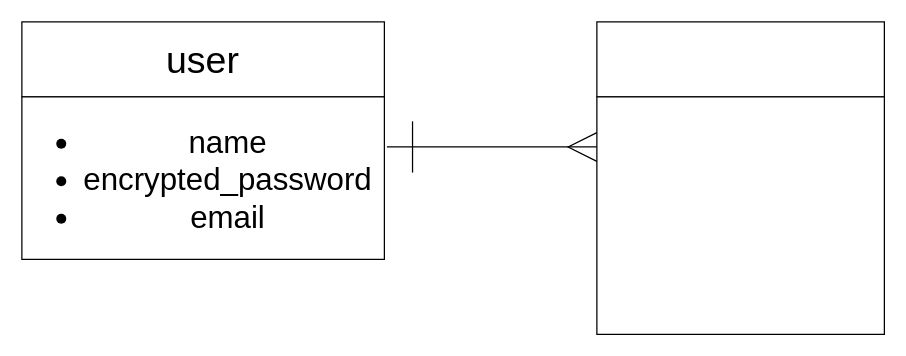
Image size: 906x356. Some labels were removed from this diagram. The shapes that lost their labels are listed below. From the top down, each one's centre as x and y in pixels, then its label:
(740,59): shift
(740,215): date start_time finish_time user
